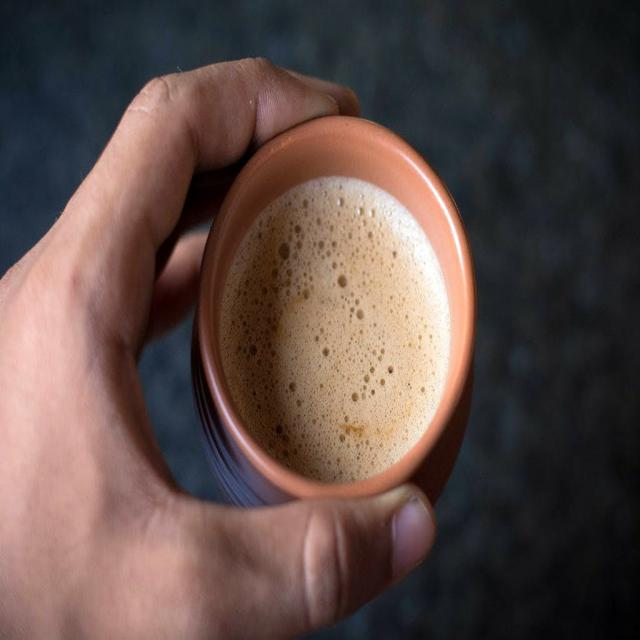Chai: (218, 175, 452, 488)
